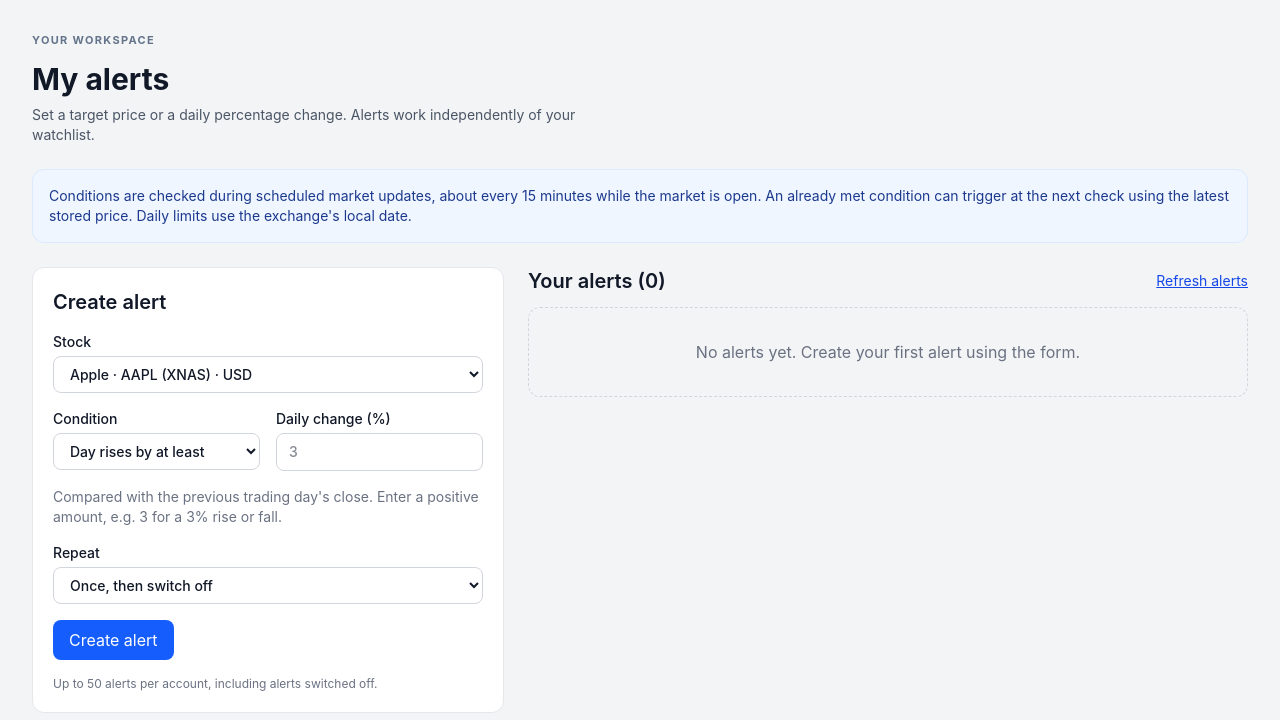
Alerts › explains which threshold rule failed without sending a request
Step 1. Select "Day falls by at least" in the dropdown labelled "Condition" → coordinates (156, 451), box x1=53 y1=432 x2=260 y2=470
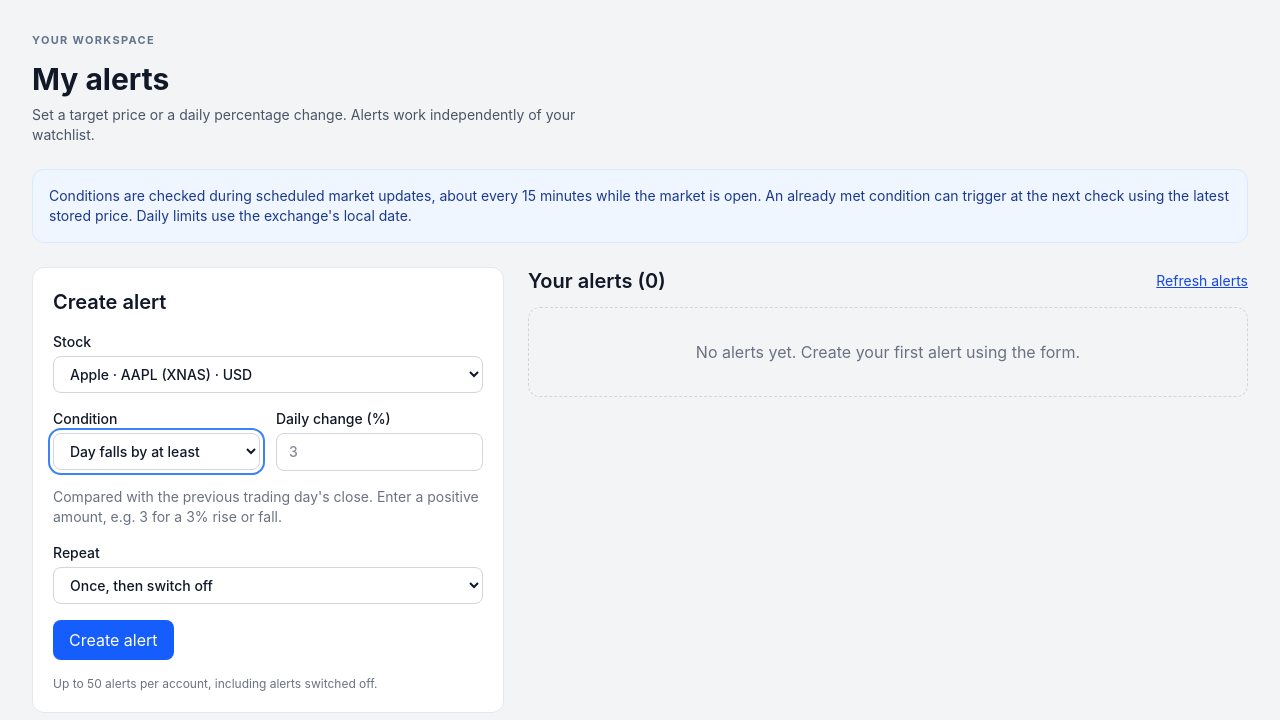
Step 2. Type "150" into the number field labelled "Daily change (%)" → coordinates (380, 452), box x1=276 y1=432 x2=483 y2=470
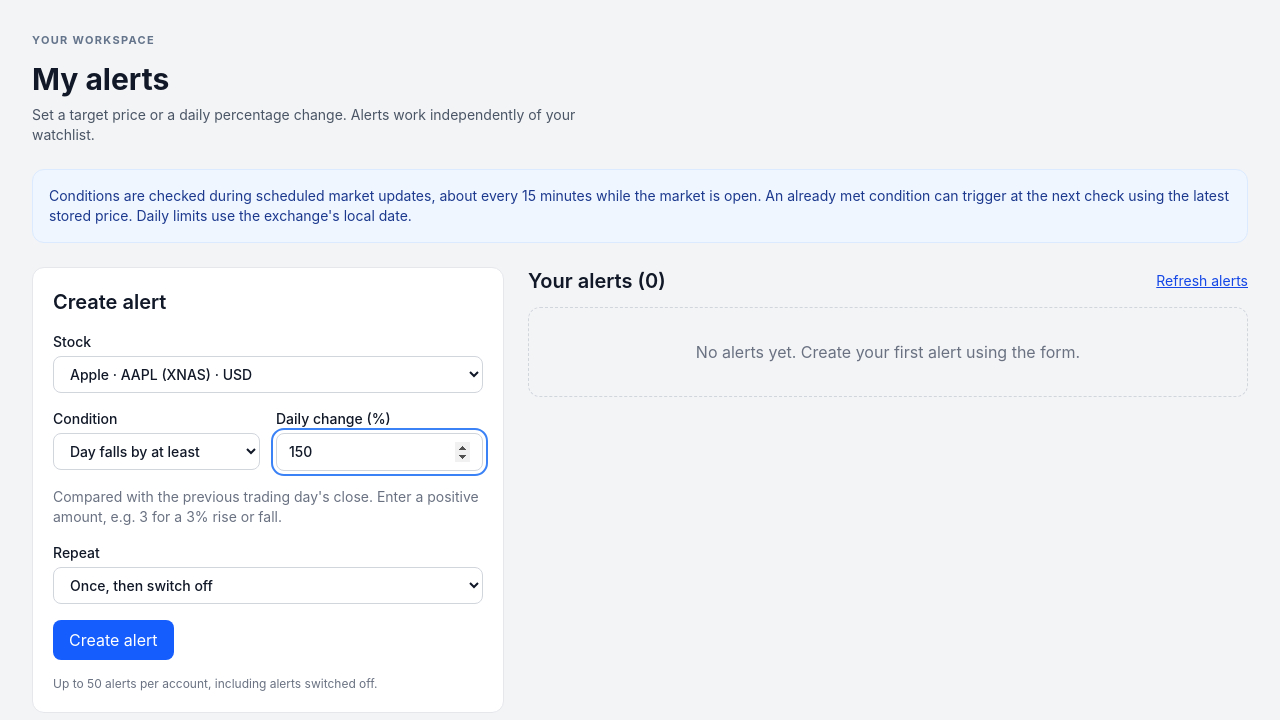
# Submit directly so the browser's own min/max checks do not run first.
Step 3. Submit the form named "Create alert", box x1=53 y1=332 x2=483 y2=660
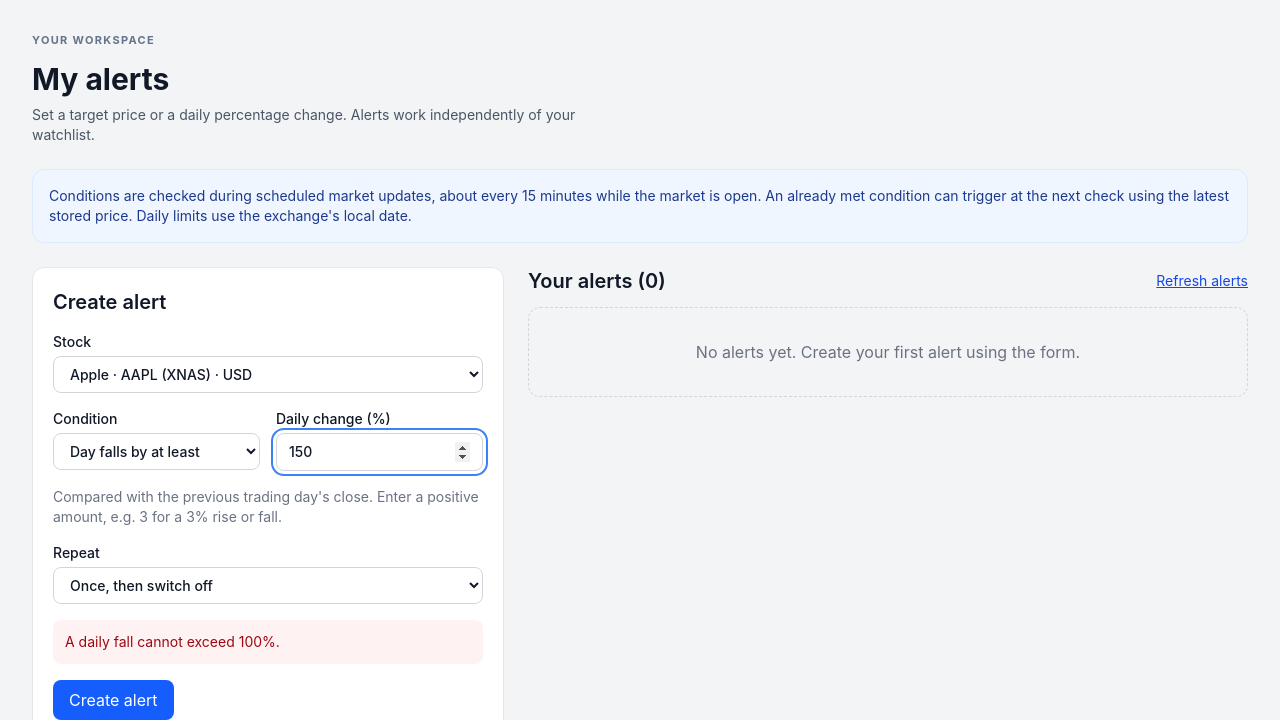
expect the message reads "A daily fall cannot exceed 100%.": met, box x1=65 y1=632 x2=280 y2=650
Step 4. Replace the text in the number field labelled "Daily change (%)" with "1.1234567" → coordinates (380, 452), box x1=276 y1=432 x2=483 y2=470
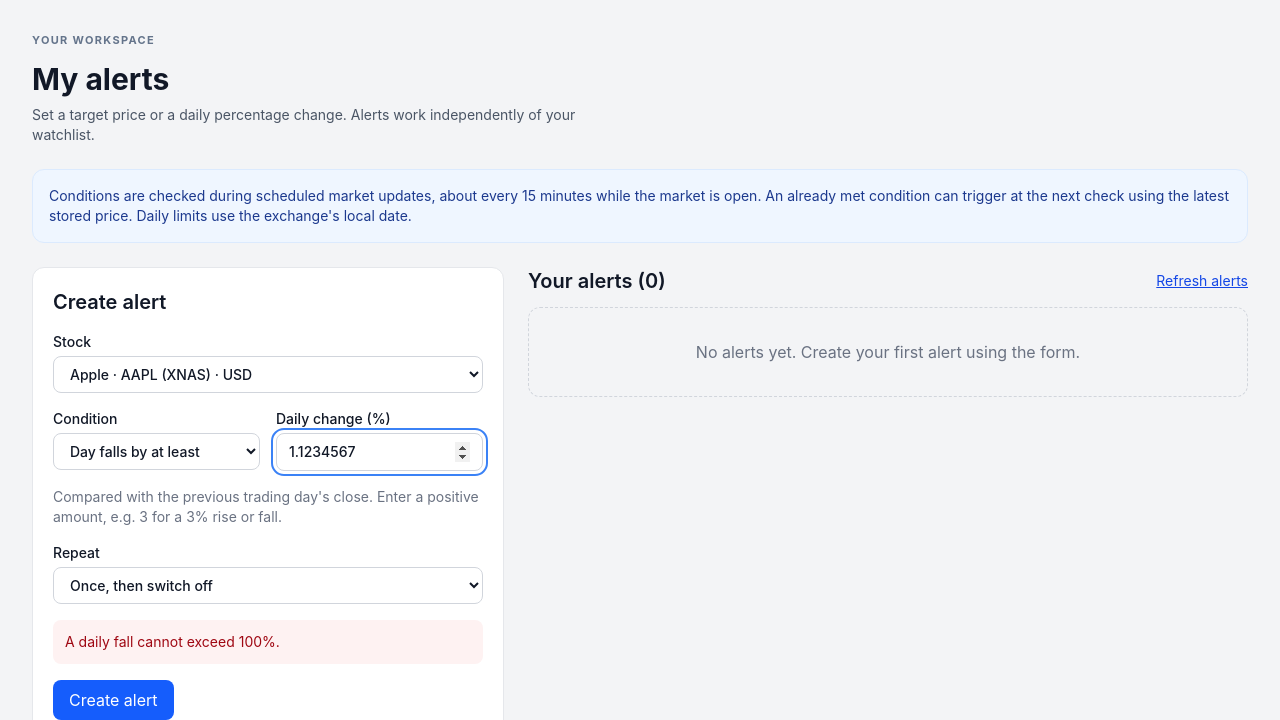
Step 5. Submit the form named "Create alert", box x1=53 y1=332 x2=483 y2=719
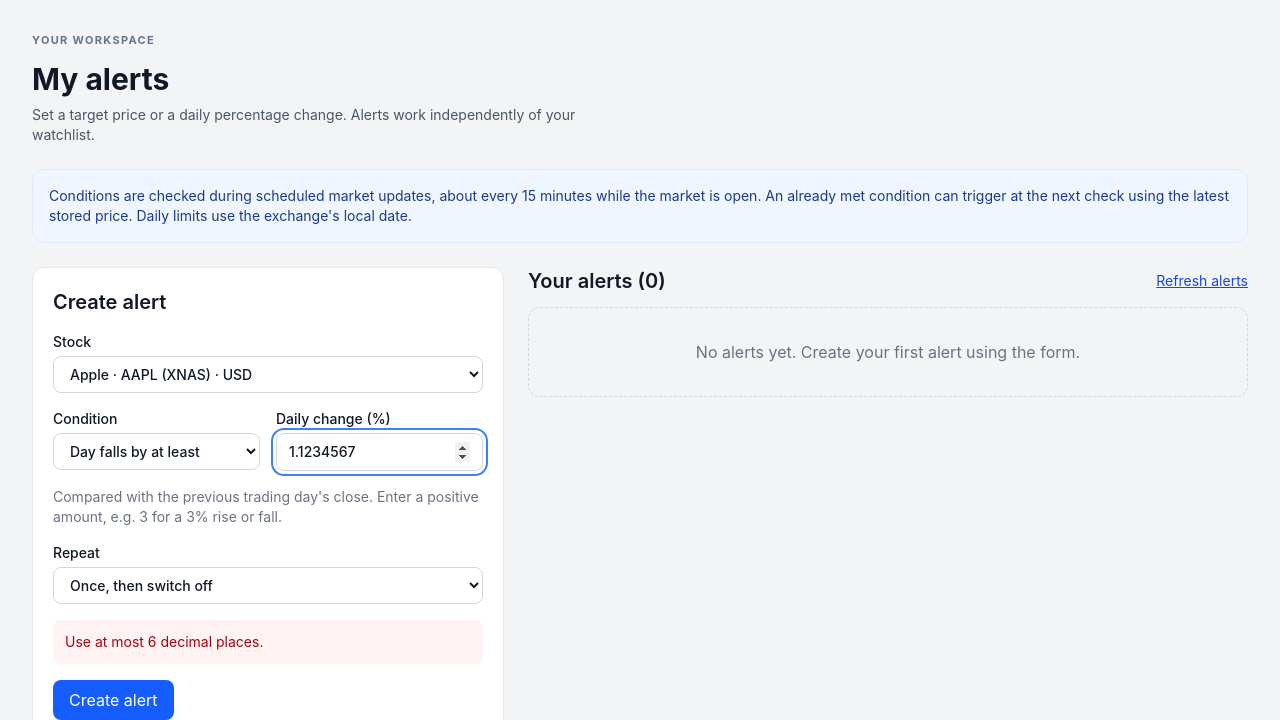
expect the message reads "Use at most 6 decimal places.": met, box x1=65 y1=632 x2=264 y2=650
